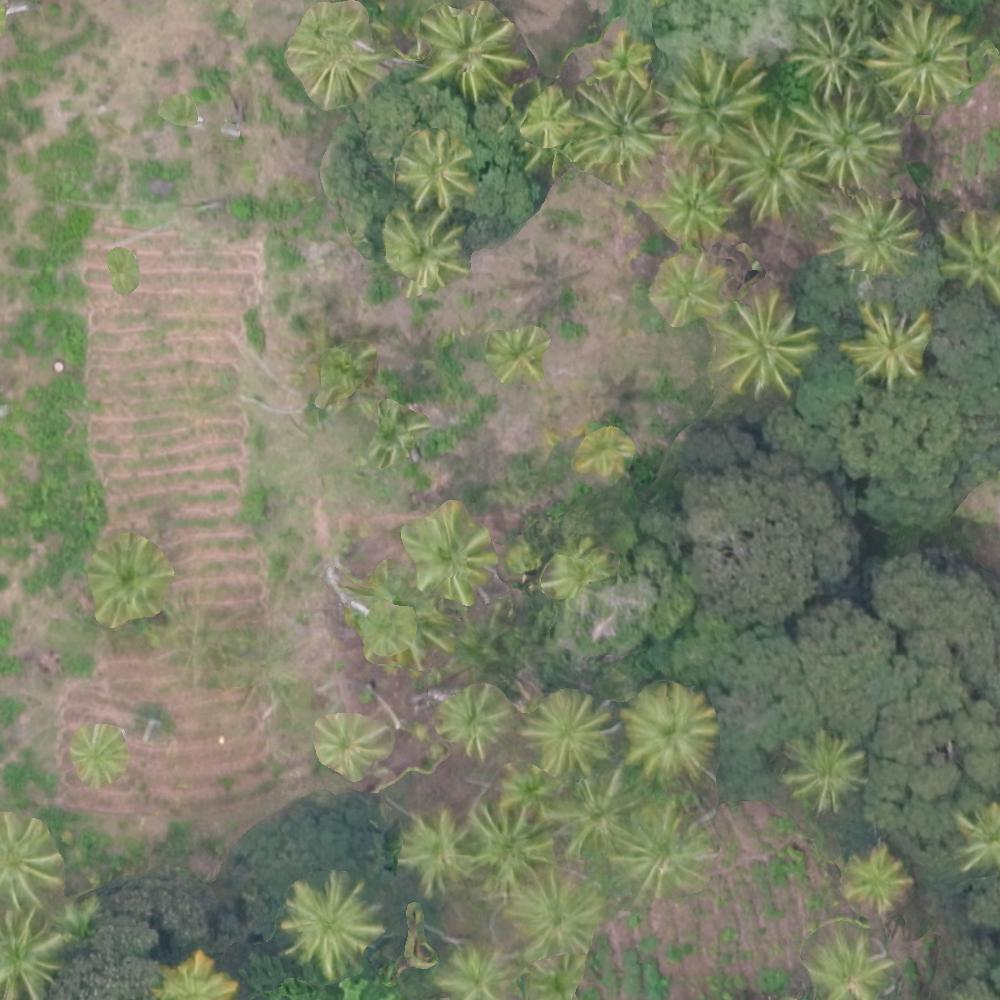Palm: (867, 5, 974, 110), (622, 684, 724, 791), (667, 52, 767, 156), (280, 875, 387, 972), (415, 4, 519, 97), (291, 4, 392, 99), (725, 115, 819, 214), (797, 90, 893, 185), (716, 299, 812, 393), (571, 82, 662, 175), (615, 804, 711, 892), (825, 193, 915, 282), (526, 688, 616, 777), (411, 508, 494, 601), (844, 302, 929, 385), (515, 877, 600, 960), (467, 804, 553, 884), (88, 536, 167, 622), (550, 772, 636, 851), (396, 129, 477, 212), (382, 212, 468, 288), (792, 13, 872, 94), (650, 161, 731, 241), (785, 729, 866, 808), (397, 811, 470, 893), (803, 932, 892, 998), (840, 839, 912, 917), (932, 213, 1000, 292), (433, 684, 508, 755), (435, 941, 515, 1000), (650, 258, 724, 321), (315, 716, 382, 778), (515, 88, 575, 154), (495, 757, 559, 818), (485, 325, 548, 386), (66, 726, 127, 786), (593, 34, 655, 85)
